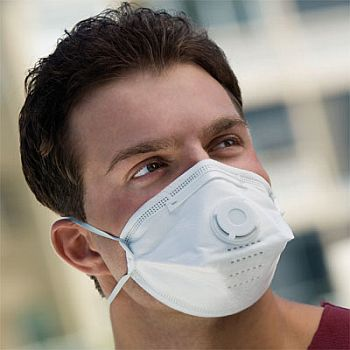mask: (121, 161, 297, 317)
